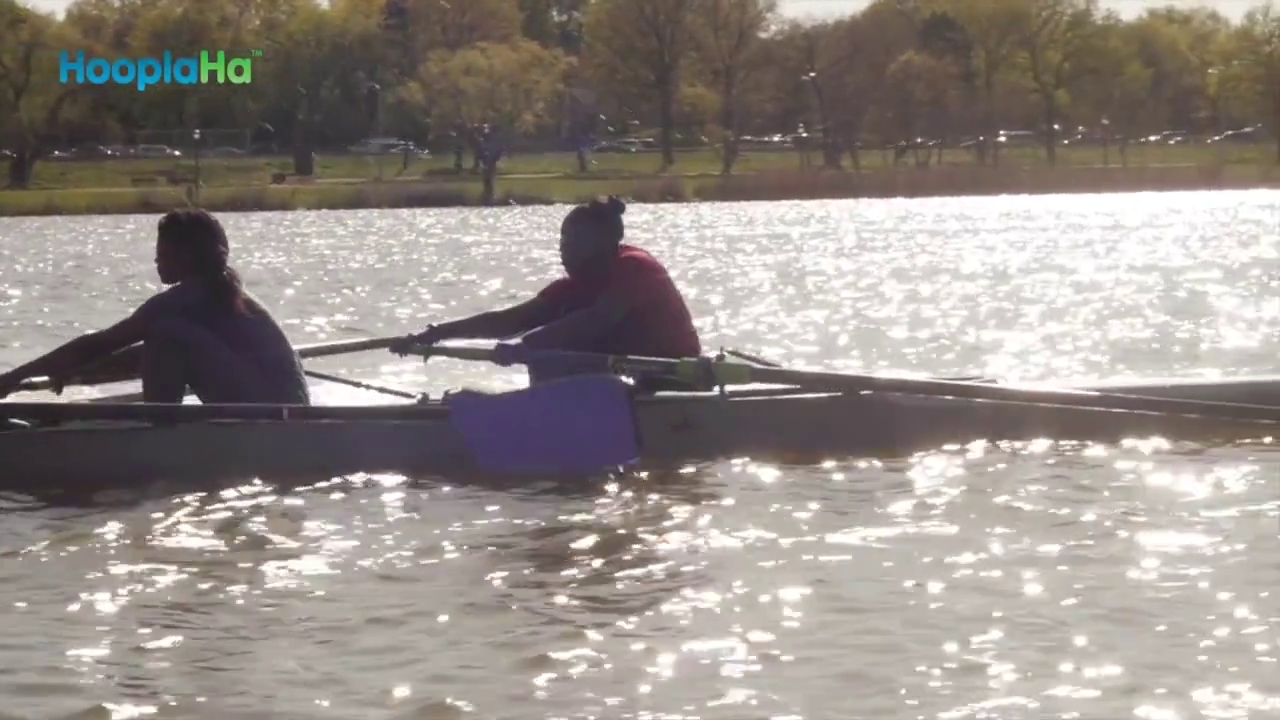person: (390, 193, 708, 391), (1, 207, 313, 406)
